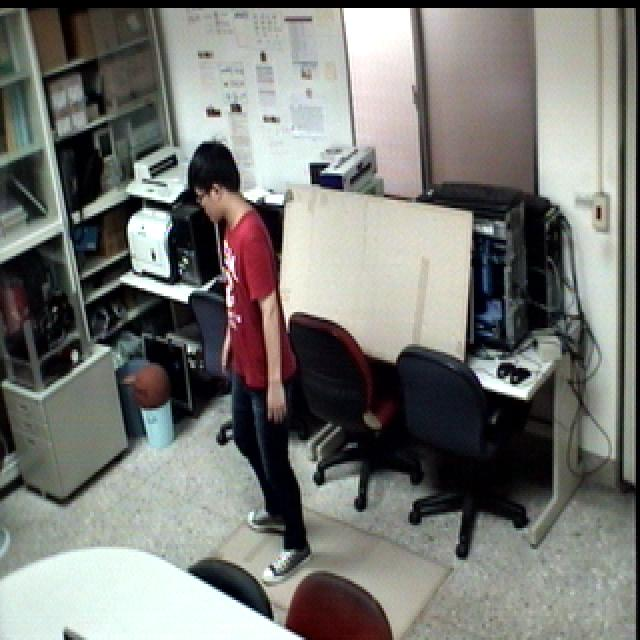stand: (176, 130, 321, 585)
